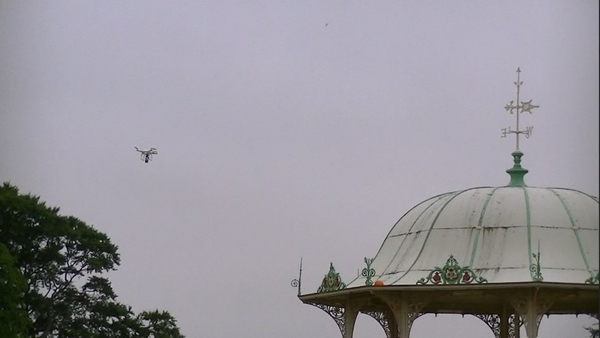drone: (132, 144, 162, 167)
